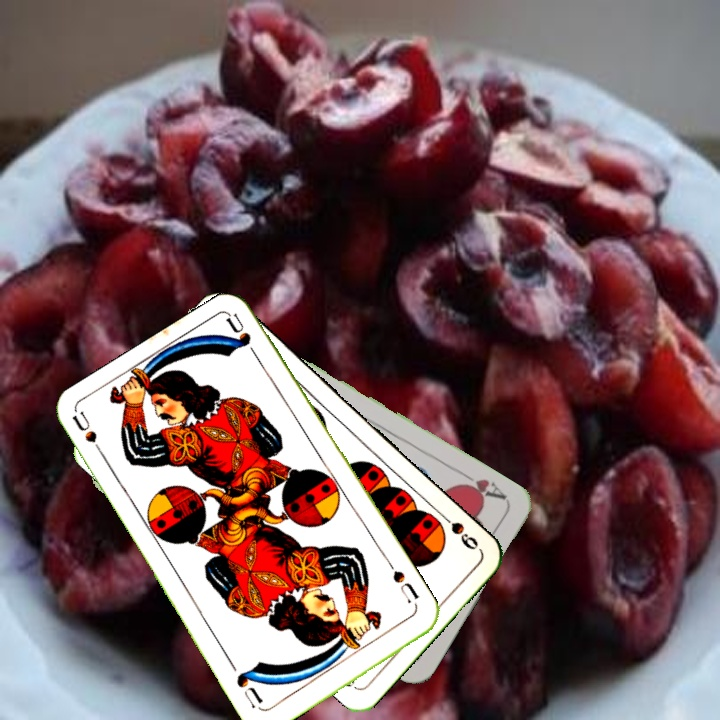HA: (454, 468, 510, 503)
S9: (434, 507, 481, 553)
SU: (69, 409, 110, 464), (388, 566, 422, 606)
